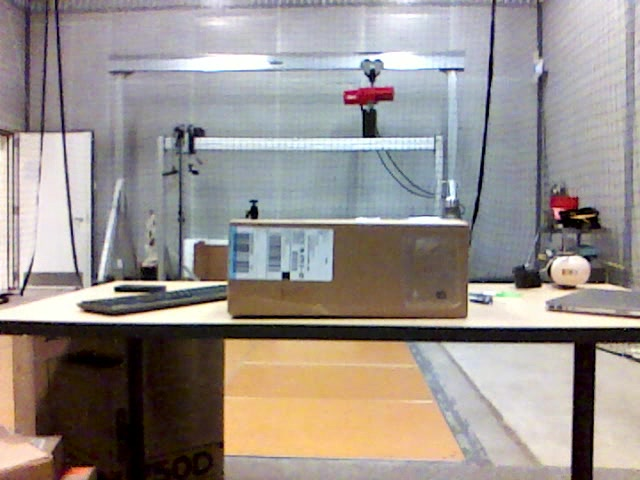box: (229, 221, 470, 316)
